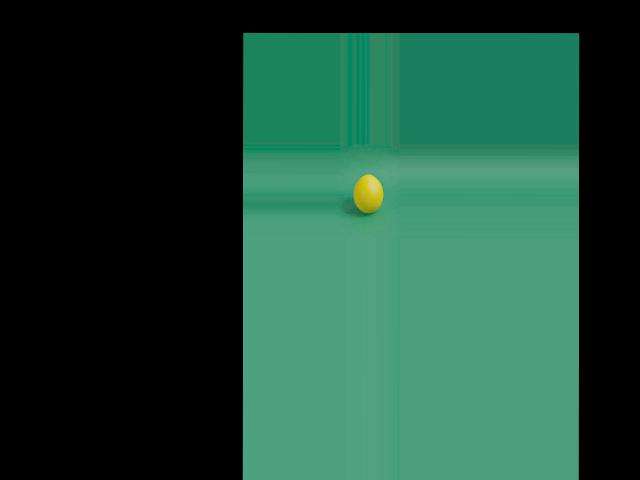egg: (354, 174, 384, 213)
